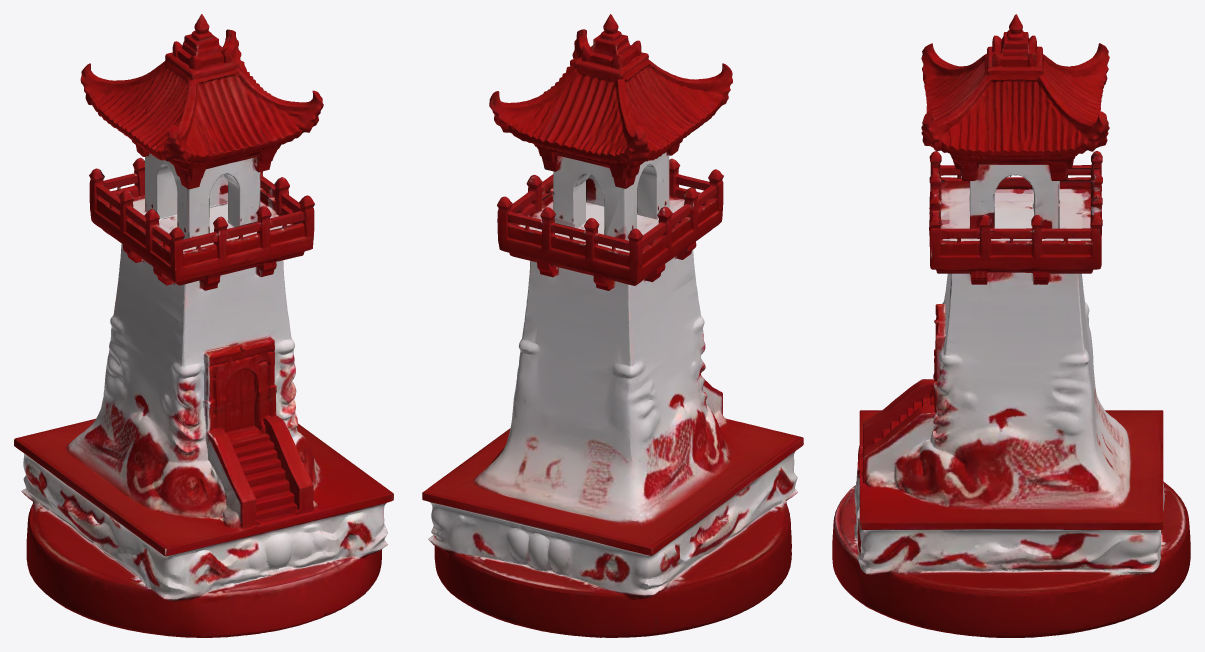
Rendered from rook_white.glb.
3 renders of one model, left to right at view 1: azimuth 30°, elevation 25°; view 2: azimuth 150°, elevation 25°; view 3: azimuth 270°, elevation 25°, orthographic.
Visible parts, largest first — view 1: model; view 2: model; view 3: model.
Boxes of the visible parts, x1=… form: model: x1=14, y1=14, x2=393, y2=637; model: x1=422, y1=14, x2=803, y2=637; model: x1=832, y1=14, x2=1190, y2=637.
Size of the model in its own units: 1.11 by 1.9 by 1.12.
1 material, 1 textured.
